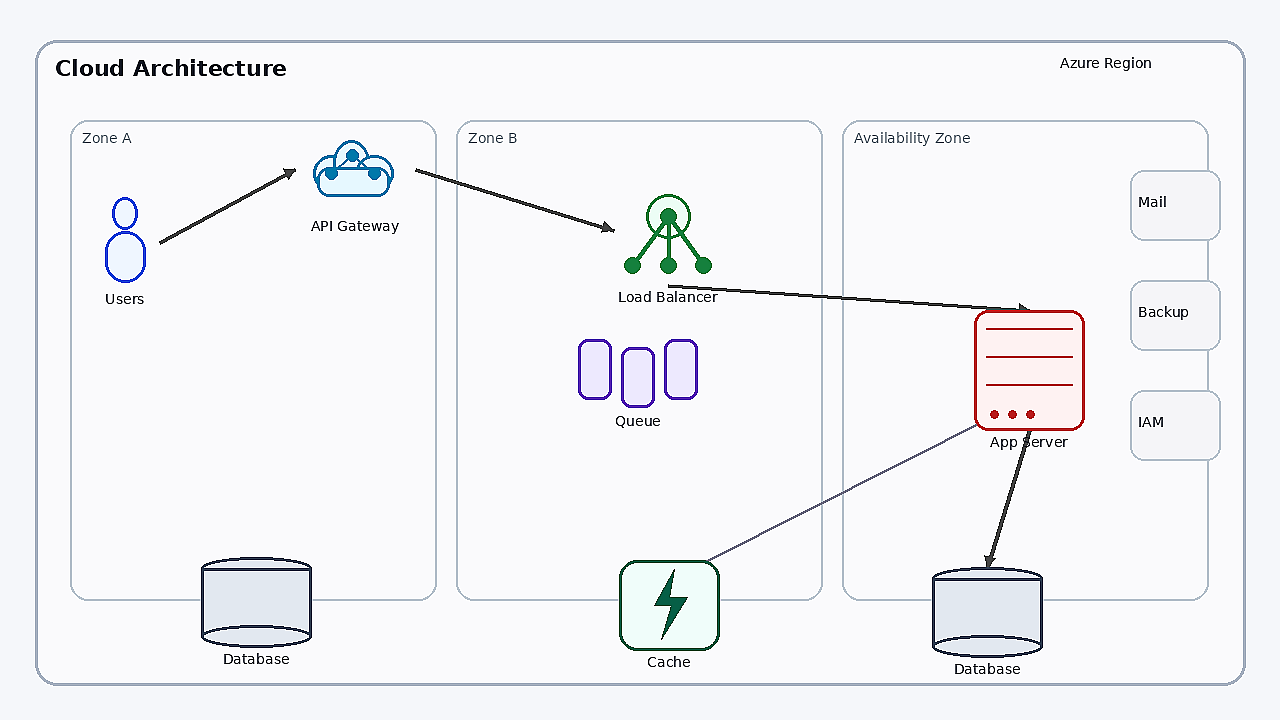API Gateway: (295, 124, 415, 214)
Application Server: (974, 310, 1084, 430)
Cache: (619, 560, 719, 650)
Database: (932, 567, 1042, 657), (201, 557, 311, 647)
Load Balancer: (613, 175, 723, 285)
Message Queue: (578, 339, 698, 409)
User: (90, 197, 160, 287)
